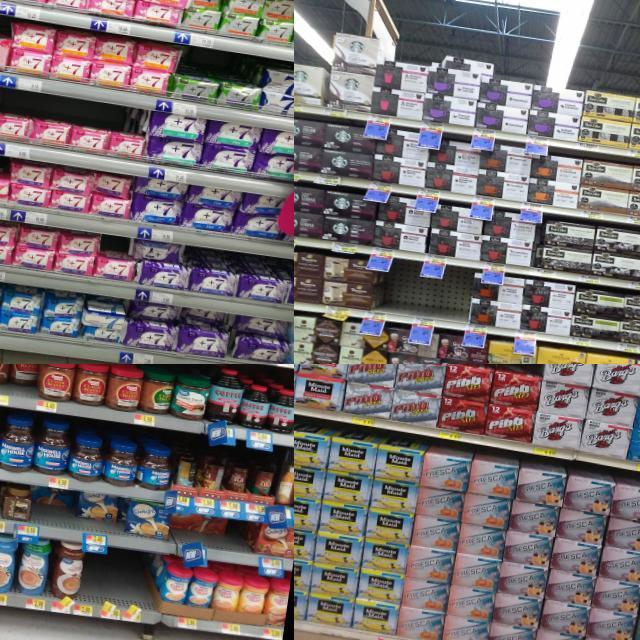empty: (414, 265, 474, 331), (374, 260, 418, 324), (122, 552, 156, 624), (100, 549, 130, 621), (78, 552, 108, 618), (223, 520, 248, 564)
